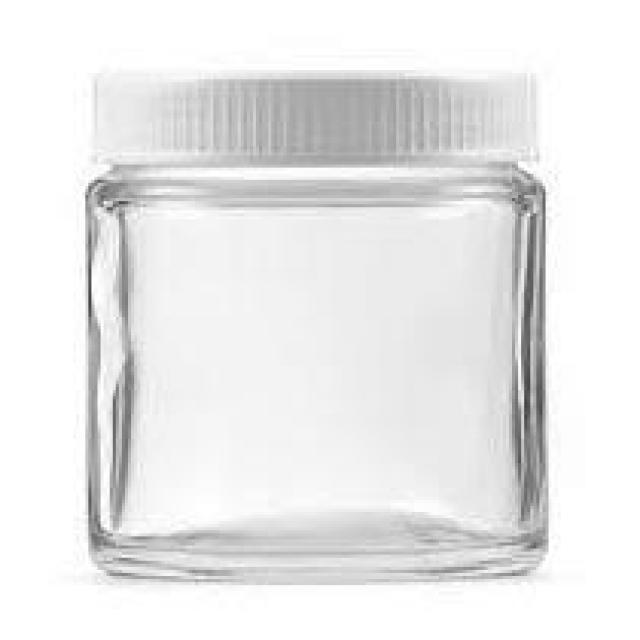glass: (79, 64, 552, 591)
